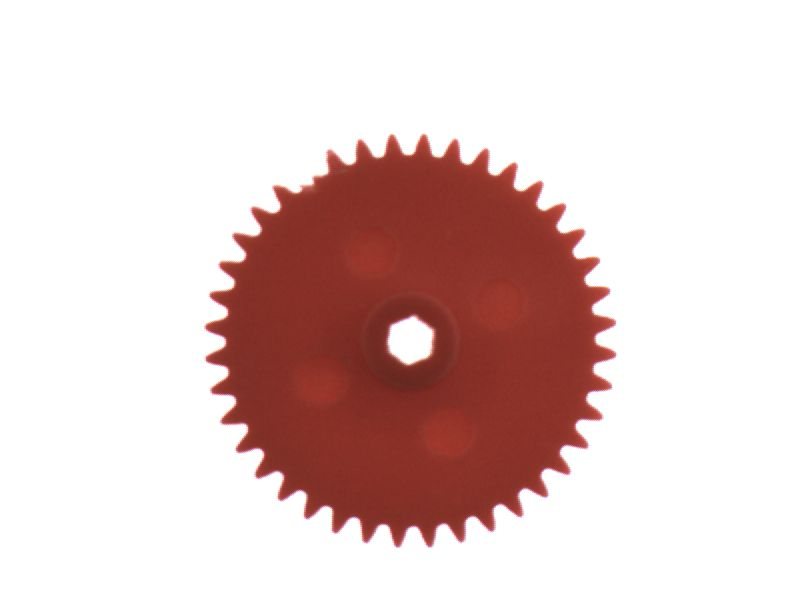defect_lack: (282, 151, 335, 205)
